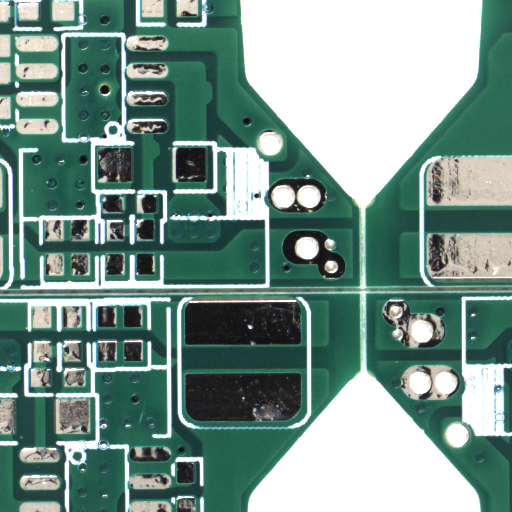Spur: (208, 92, 217, 116), (155, 150, 164, 171)
